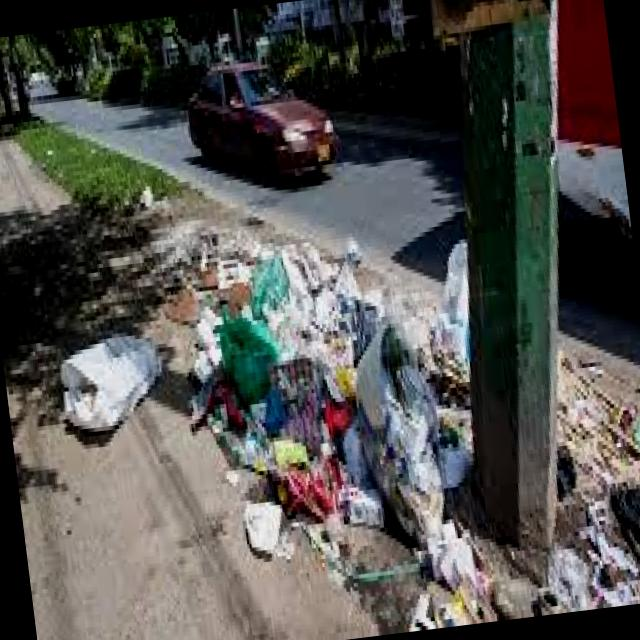garbage: (38, 193, 568, 626)
